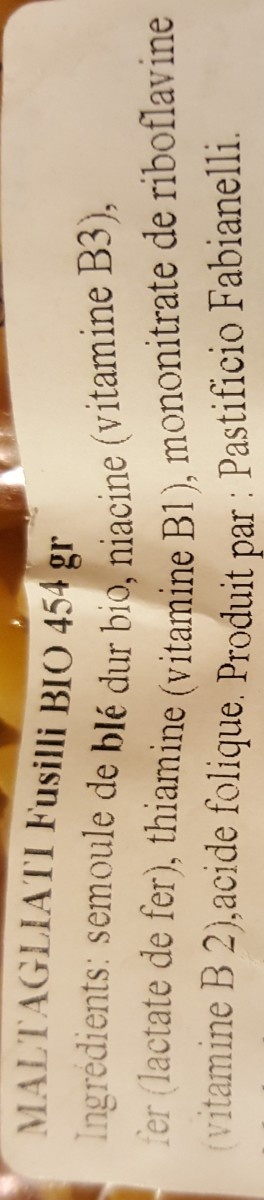ingredients: (49, 3, 258, 1181)
